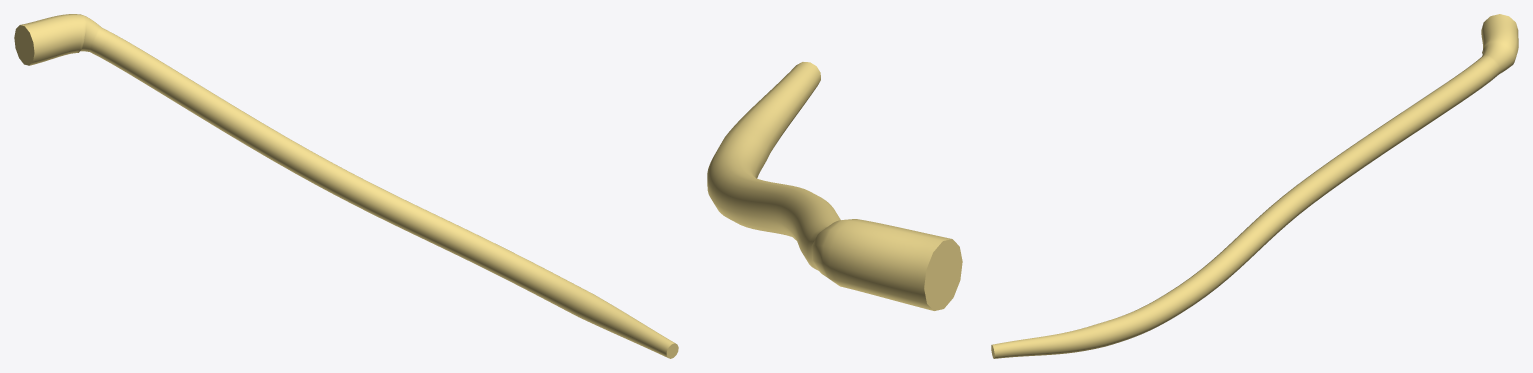
The picture shows the model from 3 angles, left to right: view 1: azimuth 30°, elevation 25°; view 2: azimuth 150°, elevation 25°; view 3: azimuth 270°, elevation 25°; orthographic projection. The views are drawn at different scales.
Visible parts, largest first — view 1: ZA_b82ab3094429fccf; view 2: ZA_b82ab3094429fccf; view 3: ZA_b82ab3094429fccf.
Boxes of the visible parts, bbox=[...] form: ZA_b82ab3094429fccf: bbox=[14, 14, 678, 358]; ZA_b82ab3094429fccf: bbox=[707, 62, 962, 310]; ZA_b82ab3094429fccf: bbox=[991, 14, 1518, 358].
Bounding box in the file's own units: 0.0305 × 0.0167 × 0.0425.
